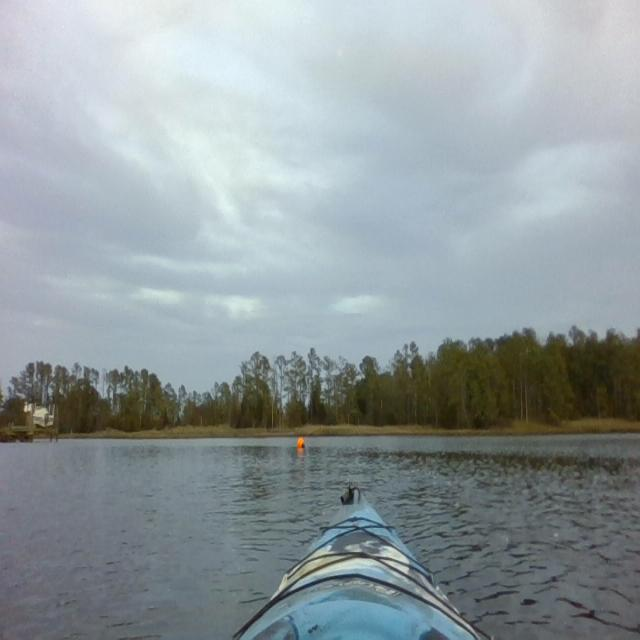Buoy: (296, 434, 306, 451)
